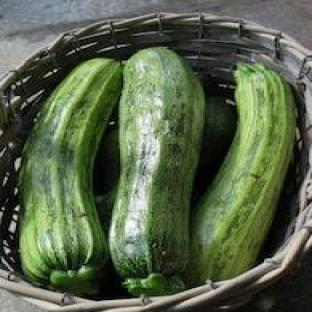Zucchini: (20, 58, 121, 293), (109, 47, 204, 295), (188, 64, 294, 284), (196, 96, 236, 194)
